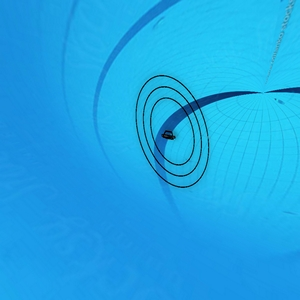circle: (132, 67, 214, 194)
submarine: (163, 130, 175, 140)
